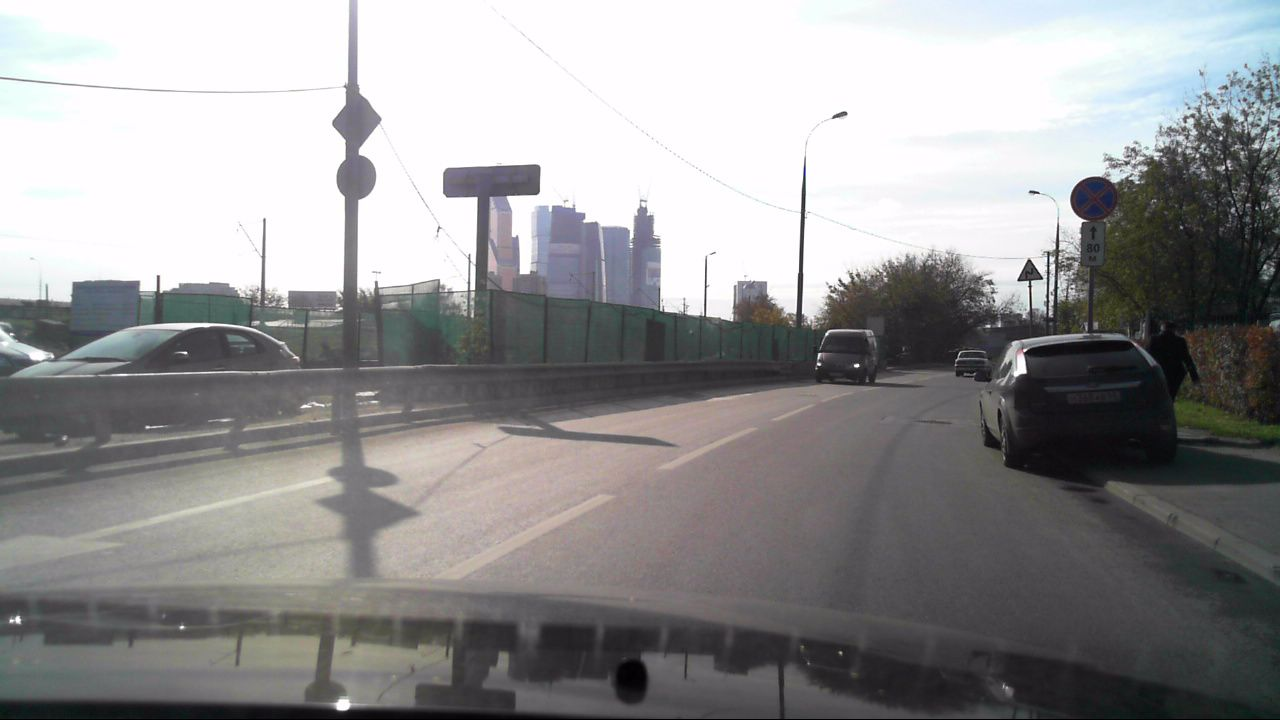No Parking: (1067, 174, 1121, 221)
